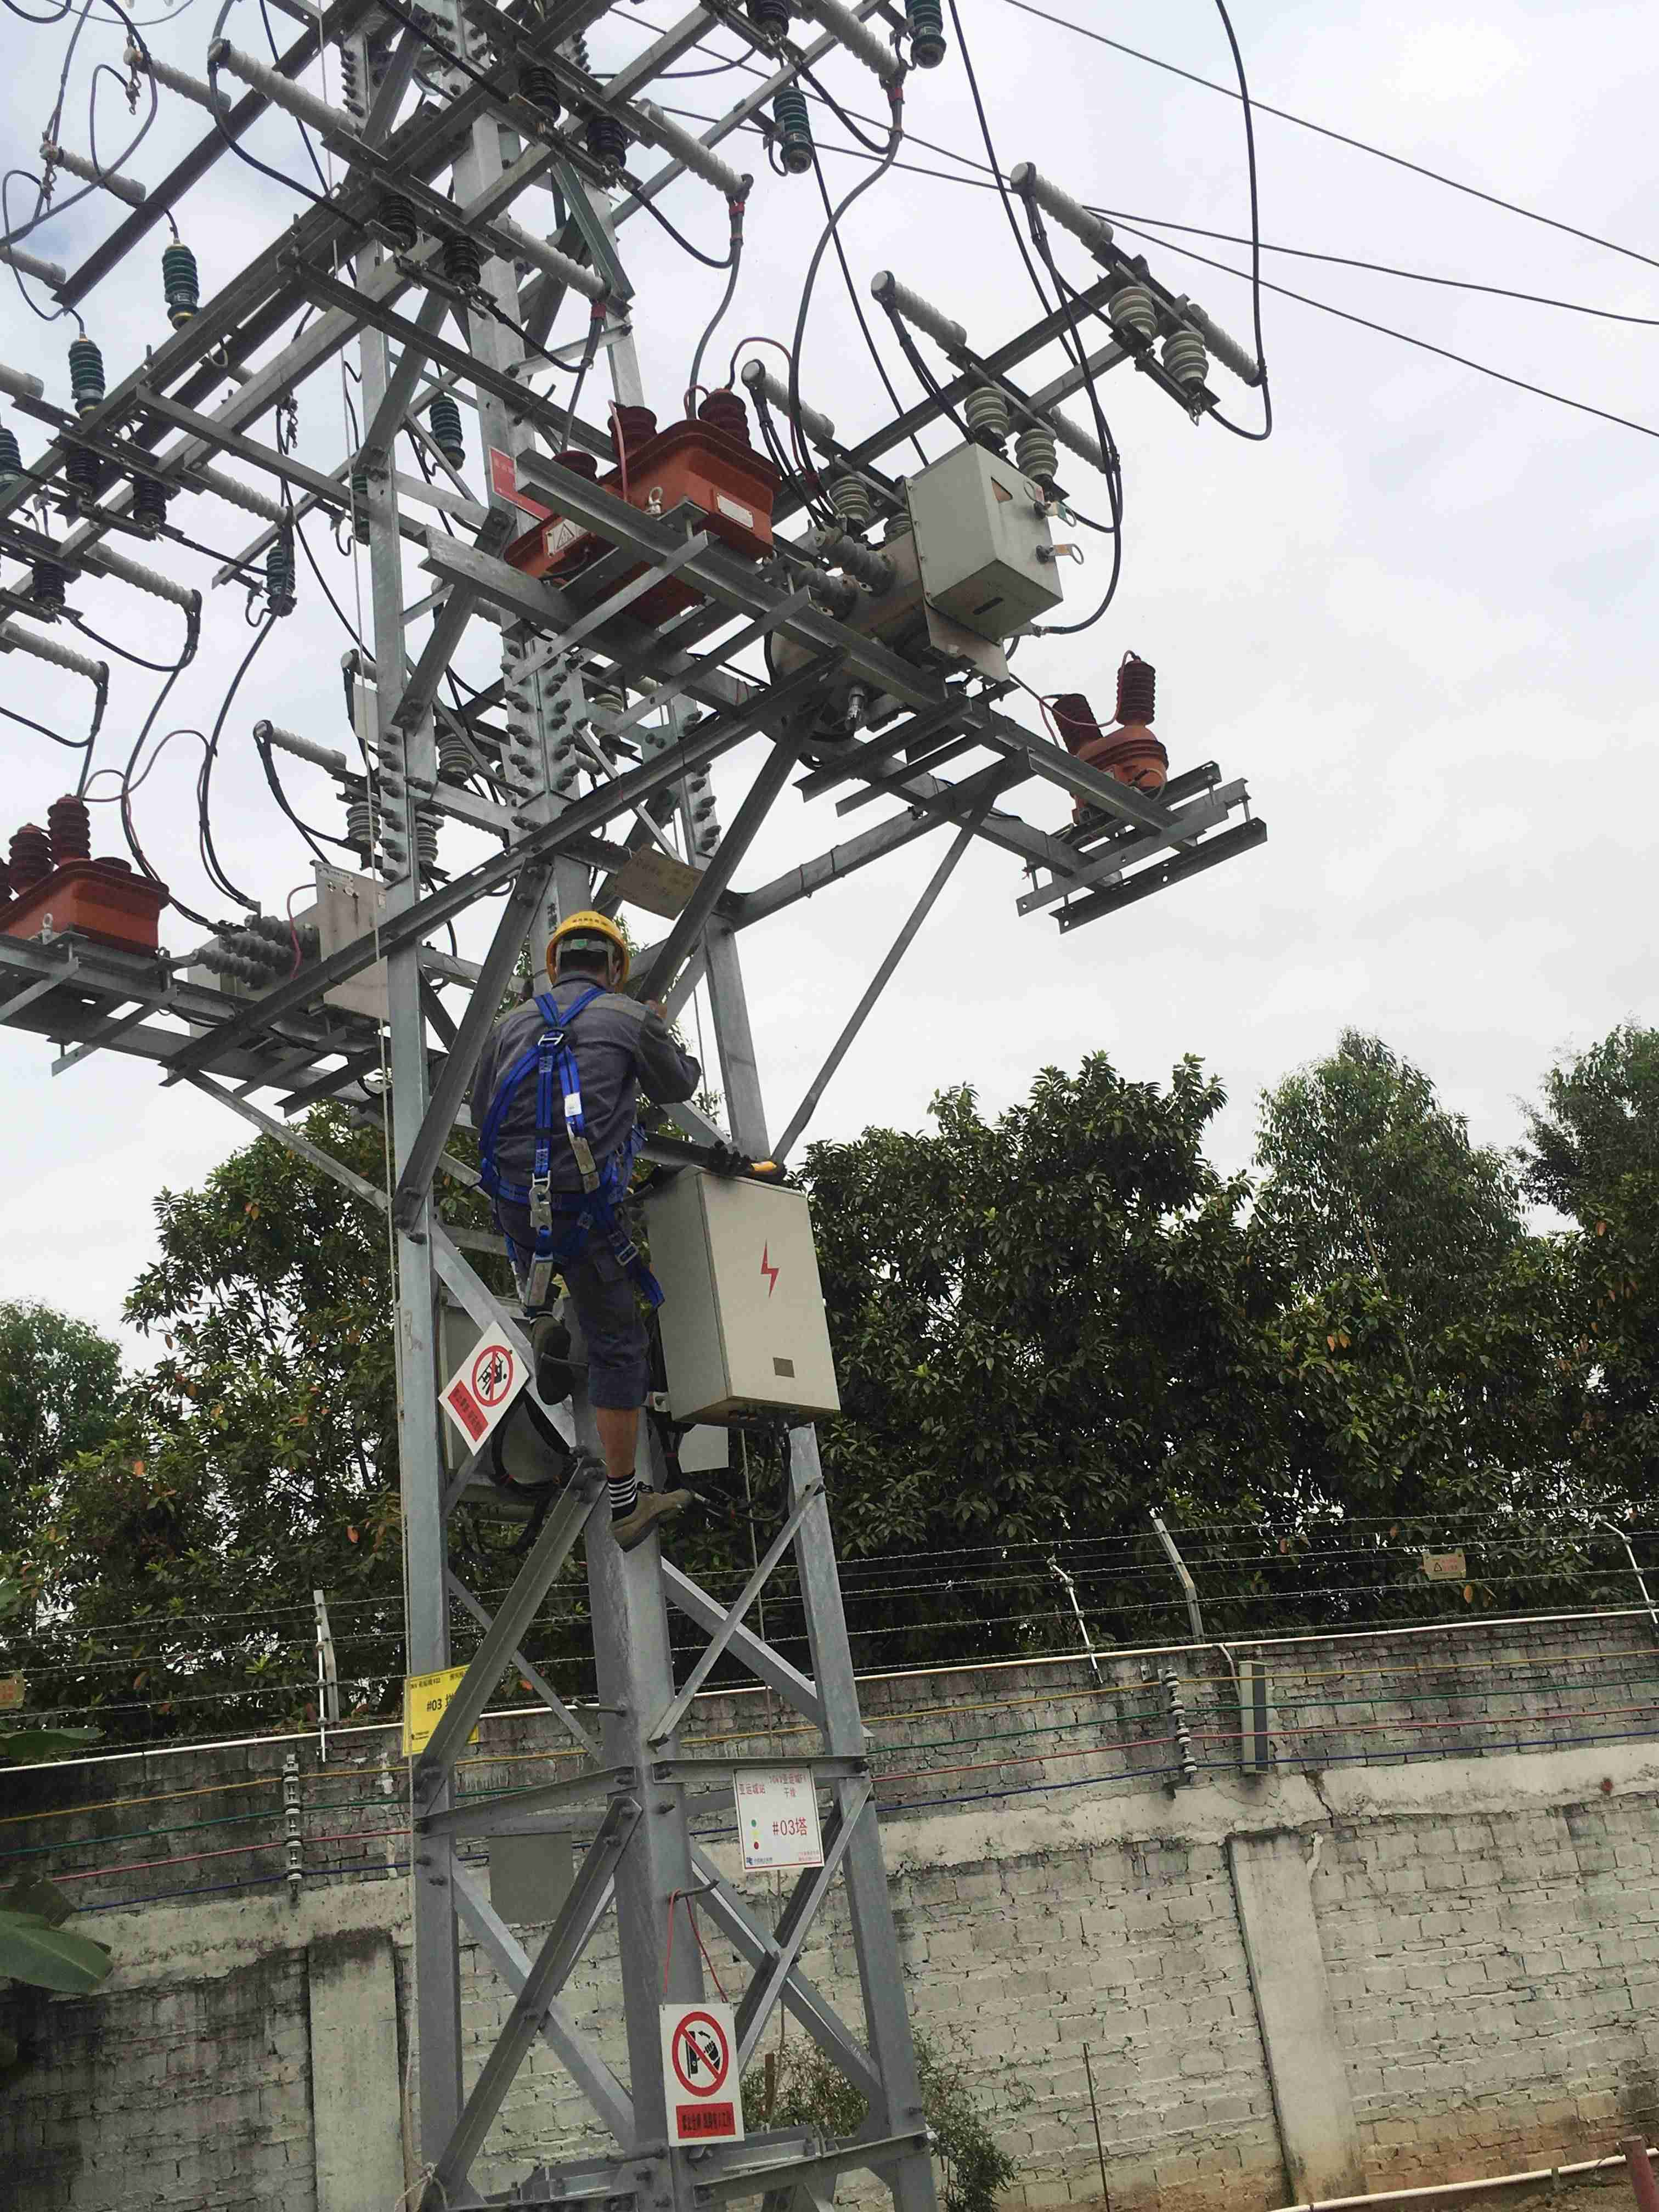downsuit: (493, 1204, 667, 1418)
upsuit: (477, 977, 702, 1191)
wrongbottom: (584, 1364, 653, 1493)
